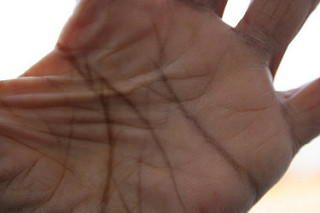palm: (48, 19, 261, 195)
